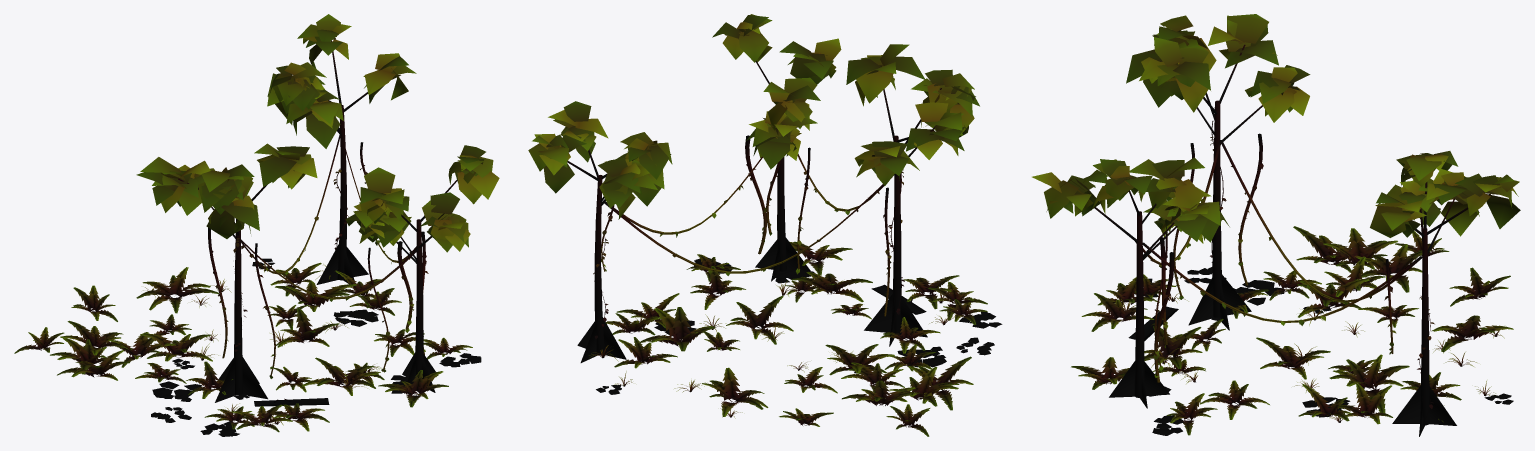
Rendered from patch_fern_floor.glb.
The picture shows the model from 3 angles, left to right: view 1: azimuth 30°, elevation 25°; view 2: azimuth 150°, elevation 25°; view 3: azimuth 270°, elevation 25°; orthographic projection. The views are drawn at different scales.
Parts seen in each view (by area): view 1: patch_fern_floor; view 2: patch_fern_floor; view 3: patch_fern_floor.
Boxes of the visible parts, x1,y1,x2,y2 form: patch_fern_floor: (14, 14, 499, 436); patch_fern_floor: (528, 14, 1002, 436); patch_fern_floor: (1032, 14, 1520, 436).
Size of the model in its own units: 19.01 by 12.15 by 18.67.
Materials: 1 (1 with a texture image).
